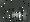person: (21, 8, 27, 22), (14, 9, 19, 20)
